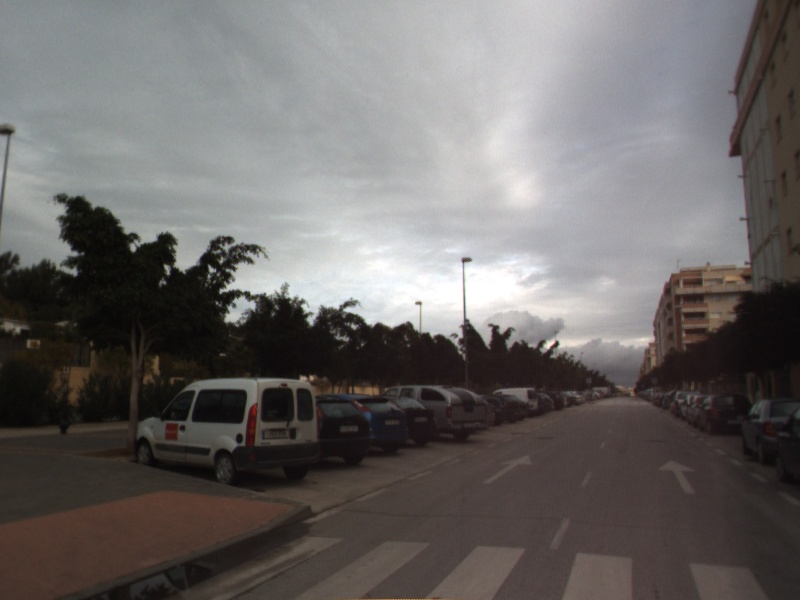STRAIGHT: (481, 453, 534, 486), (656, 457, 698, 496)
